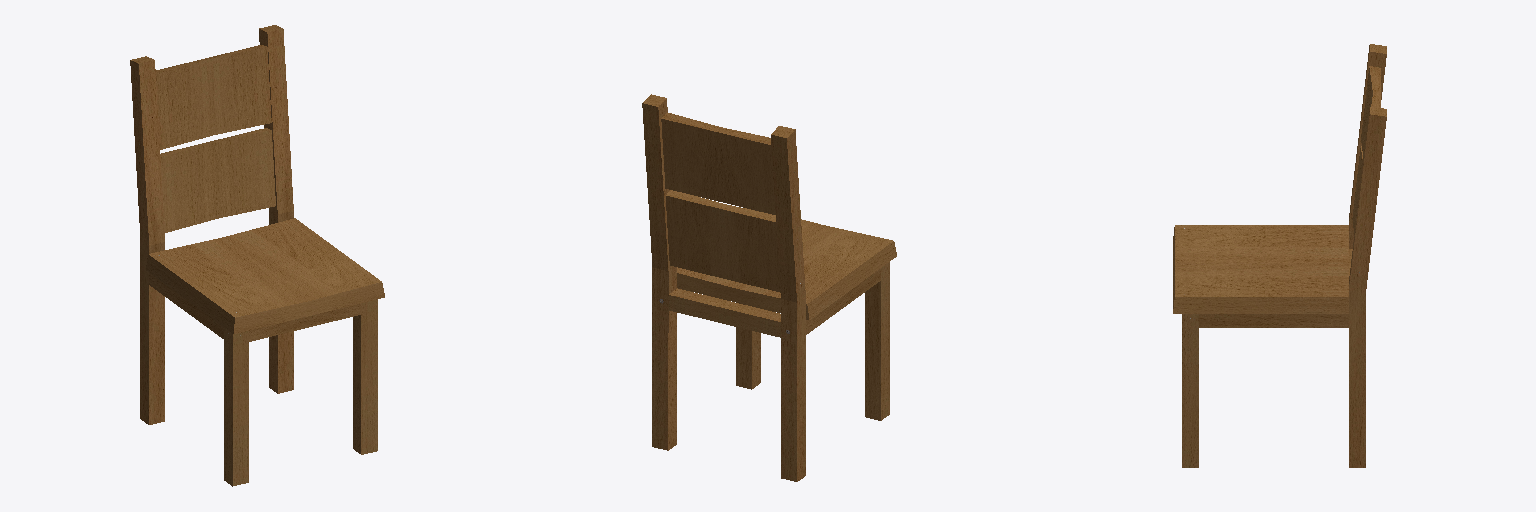
The picture shows the model from 3 angles: view 1: azimuth 30°, elevation 25°; view 2: azimuth 150°, elevation 25°; view 3: azimuth 270°, elevation 25°; orthographic projection.
Parts seen in each view (by area): view 1: Wooden_Chair_Chair; view 2: Wooden_Chair_Chair; view 3: Wooden_Chair_Chair.
Boxes of the visible parts, <box> form: Wooden_Chair_Chair: <box>130,25,384,486</box>; Wooden_Chair_Chair: <box>642,94,896,481</box>; Wooden_Chair_Chair: <box>1173,44,1386,467</box>.
Bounding box in the file's own units: 0.45 × 1 × 0.55.
Materials: 1 (1 with a texture image).